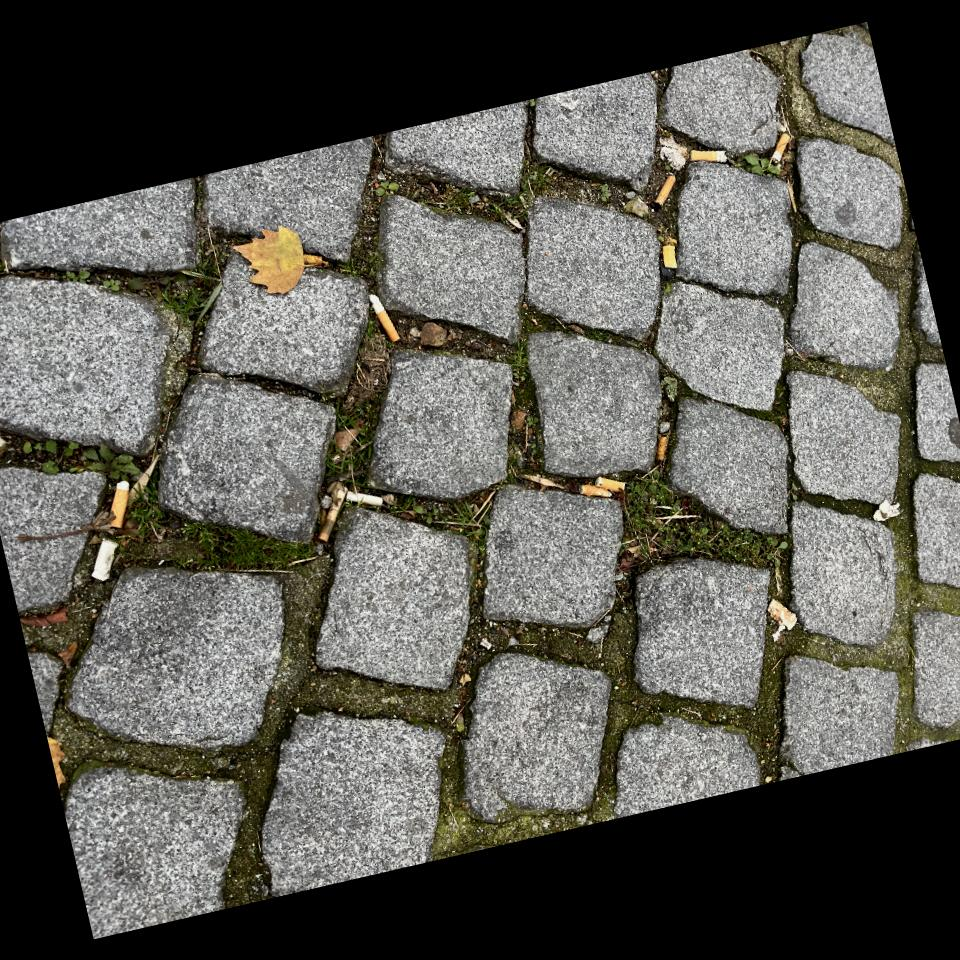weed: (299, 450, 375, 680), (614, 269, 712, 428), (633, 555, 693, 668), (667, 737, 713, 867), (396, 832, 459, 925), (589, 909, 624, 947), (297, 270, 319, 314)
